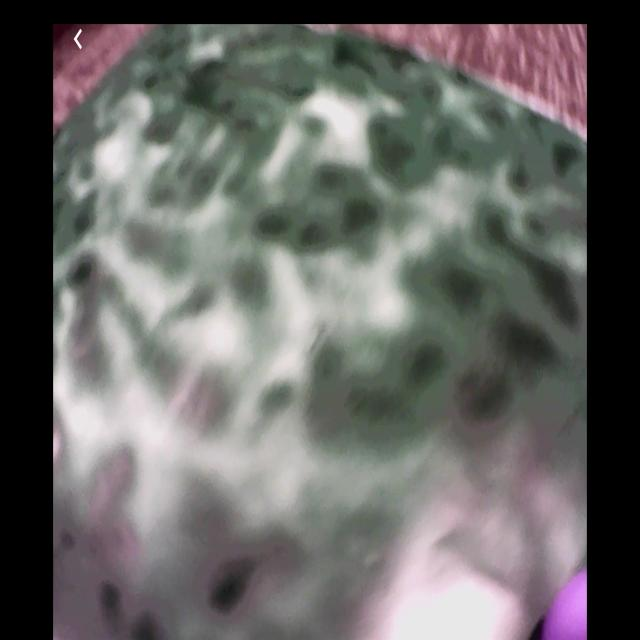ball: (540, 559, 587, 640)
